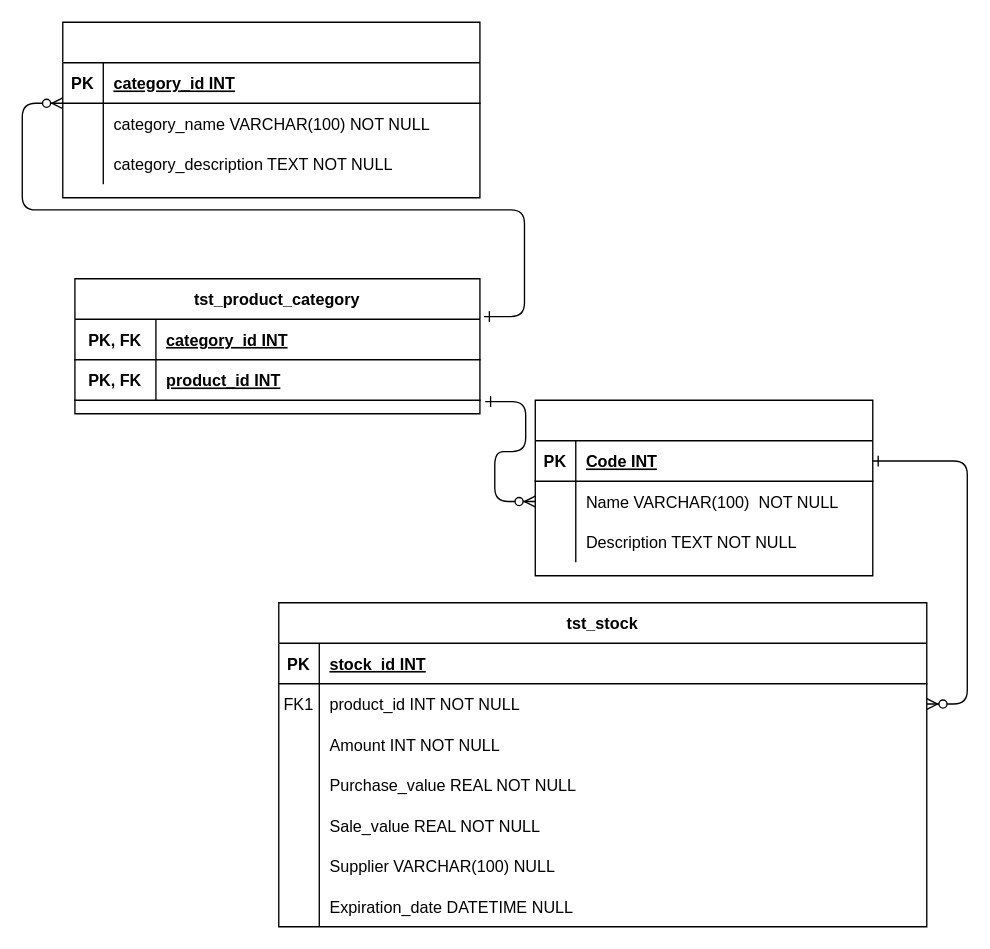
The diagram is 990 pixels wide and 949 high, and some of its shapes have lost their labels. Here are the shapes that lost their labels. From the top down, the box of each, then its label:
(61, 21, 480, 198): tst_categories
(534, 399, 873, 576): tst_products
